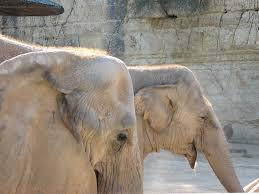elephant: (0, 36, 241, 193)
